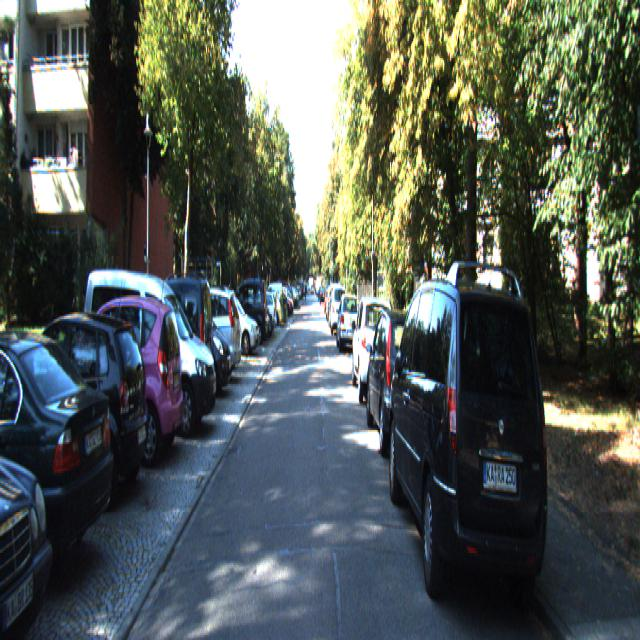Car: (386, 257, 552, 637), (0, 328, 119, 609), (0, 304, 154, 508), (82, 266, 217, 444), (60, 292, 185, 474), (0, 324, 62, 638), (120, 273, 213, 420), (365, 304, 436, 457), (152, 305, 232, 414), (157, 291, 240, 395), (352, 298, 397, 410), (202, 286, 260, 356), (222, 277, 268, 349), (336, 296, 360, 358), (330, 284, 347, 336)
